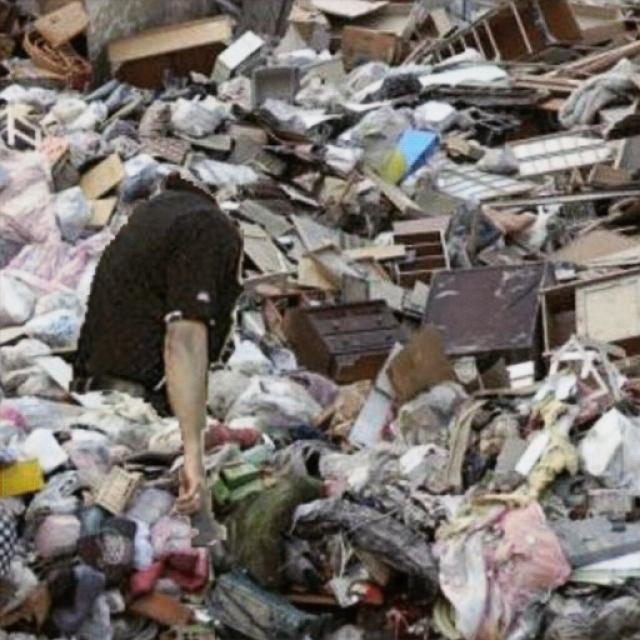Person in Rubble: (69, 173, 242, 546)
